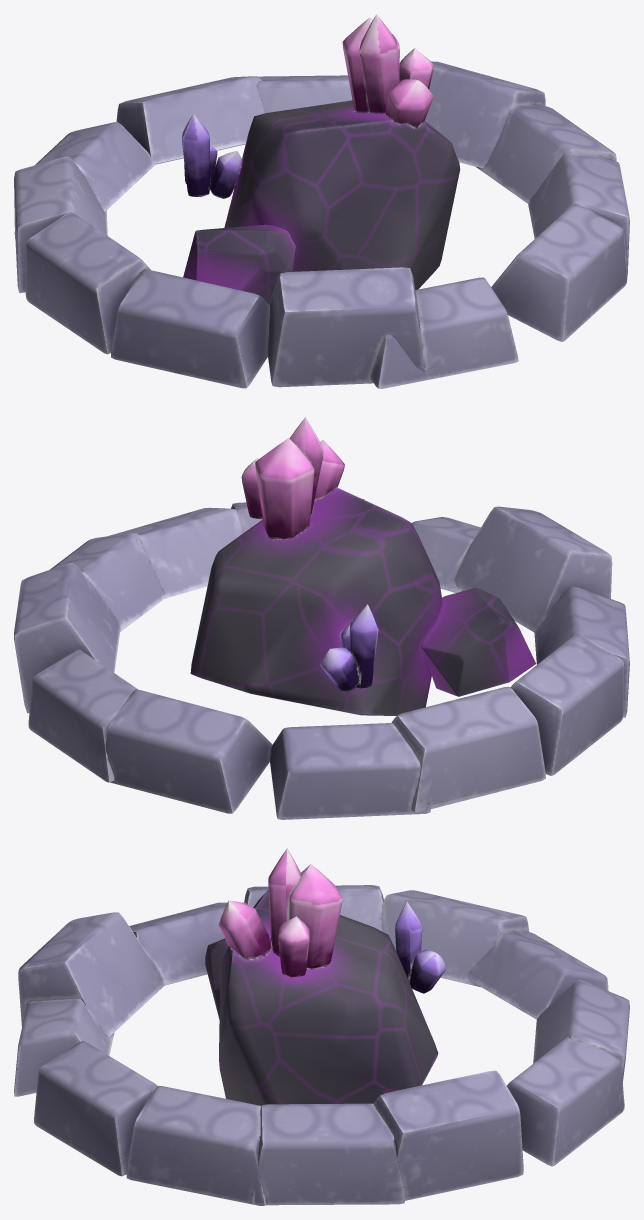
File: Cosmos_Meteorite.fbx
3 views of the same model, one above another, from view 1: azimuth 30°, elevation 25°; view 2: azimuth 150°, elevation 25°; view 3: azimuth 270°, elevation 25° (orthographic).
Visible parts, largest first — view 1: Cosmos_Meteorite; view 2: Cosmos_Meteorite; view 3: Cosmos_Meteorite.
Boxes of the visible parts, <box> form: Cosmos_Meteorite: <box>14,14,629,388</box>; Cosmos_Meteorite: <box>14,417,629,819</box>; Cosmos_Meteorite: <box>14,848,629,1205</box>.
Size of the model in its own units: 1013 by 525 by 1020.
1 material, 1 textured.
